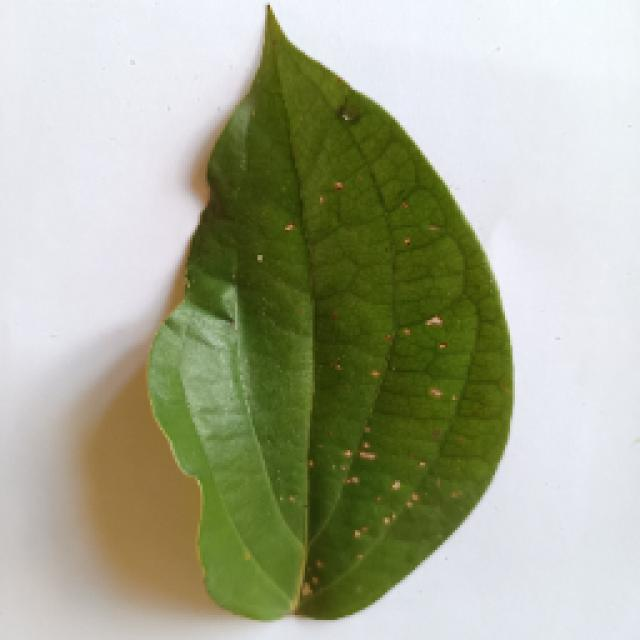pollu-disease: (148, 2, 508, 618)
